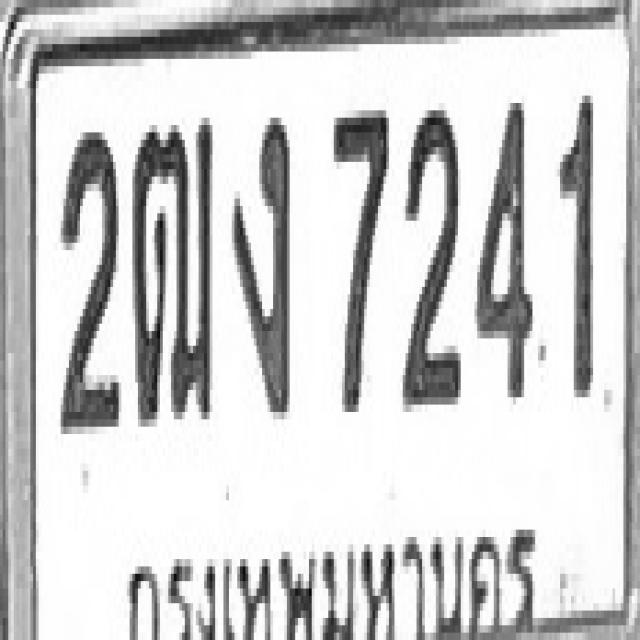1: (556, 89, 594, 398)
16NgorNgu: (230, 110, 291, 420)
2: (58, 125, 119, 434), (400, 103, 461, 405)
27ThorPhuThao: (130, 110, 215, 427)
4: (474, 92, 532, 401)
7: (331, 103, 389, 412)
Bangkok: (121, 522, 544, 640)
